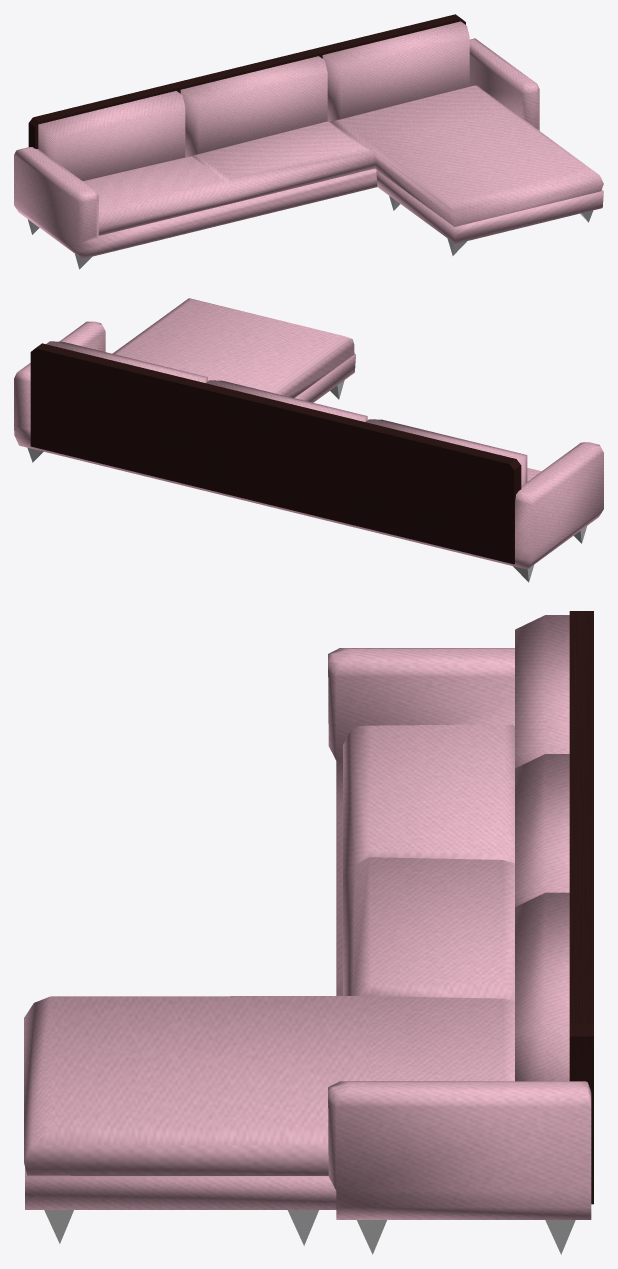
The model's file is Chaise_Sofa_A_06.FBX.
3 renders of one model, top to bottom at view 1: azimuth 30°, elevation 25°; view 2: azimuth 150°, elevation 25°; view 3: azimuth 270°, elevation 25°, orthographic. The views are drawn at different scales.
Parts seen in each view (by area): view 1: Chaise_Sofa_A; view 2: Chaise_Sofa_A; view 3: Chaise_Sofa_A.
Part boxes in pixels (x1,y1,x2,y2): Chaise_Sofa_A: (14,14,603,269); Chaise_Sofa_A: (14,298,603,582); Chaise_Sofa_A: (24,611,593,1254).
Size of the model in its own units: 685 by 157 by 366.
